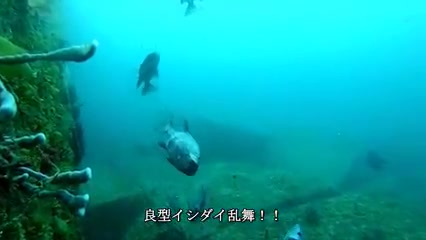smallfish: (157, 112, 208, 178)
